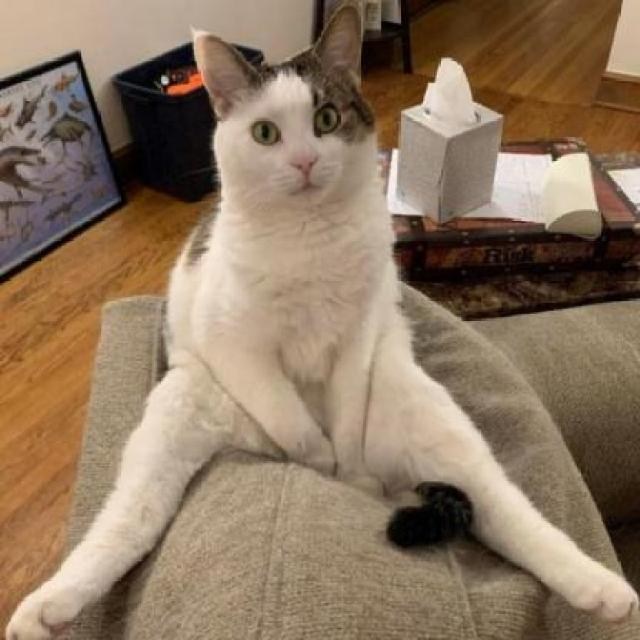cat: (188, 24, 402, 488)
